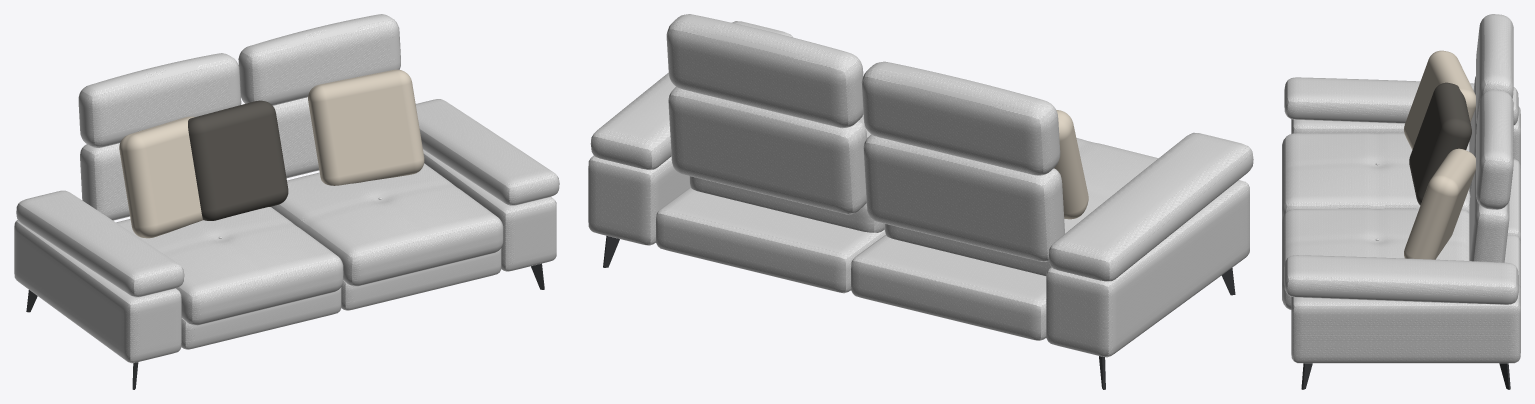
The model's file is sofa-roma-210.glb.
3 renders of one model, left to right at view 1: azimuth 30°, elevation 25°; view 2: azimuth 150°, elevation 25°; view 3: azimuth 270°, elevation 25°, orthographic. The views are drawn at different scales.
Visible parts, largest first — view 1: object 1, decor (×2), object 4; view 2: object 1, decor, object 4; view 3: object 1, decor (×2), object 4.
Part boxes in pixels (x1,y1,x2,y2): object 1: (14, 14, 559, 363); decor (×2): (119, 69, 424, 238); object 4: (26, 263, 544, 389); object 1: (588, 14, 1253, 357); decor: (1054, 110, 1088, 219); object 4: (603, 236, 1235, 389); object 1: (1282, 14, 1520, 363); decor (×2): (1404, 50, 1475, 259); object 4: (1301, 363, 1510, 389).
Bounding box in the file's own units: 2.1 × 1.01 × 1.04.
Materials: 4 (1 with a texture image).
